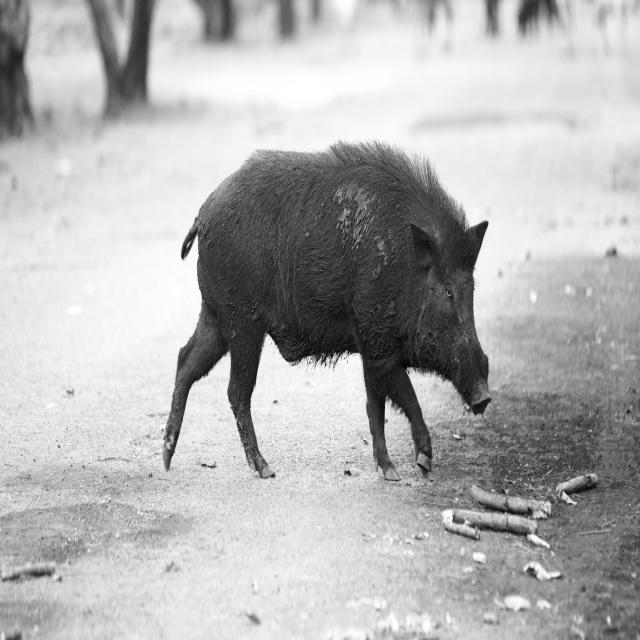boar: (162, 141, 490, 478)
